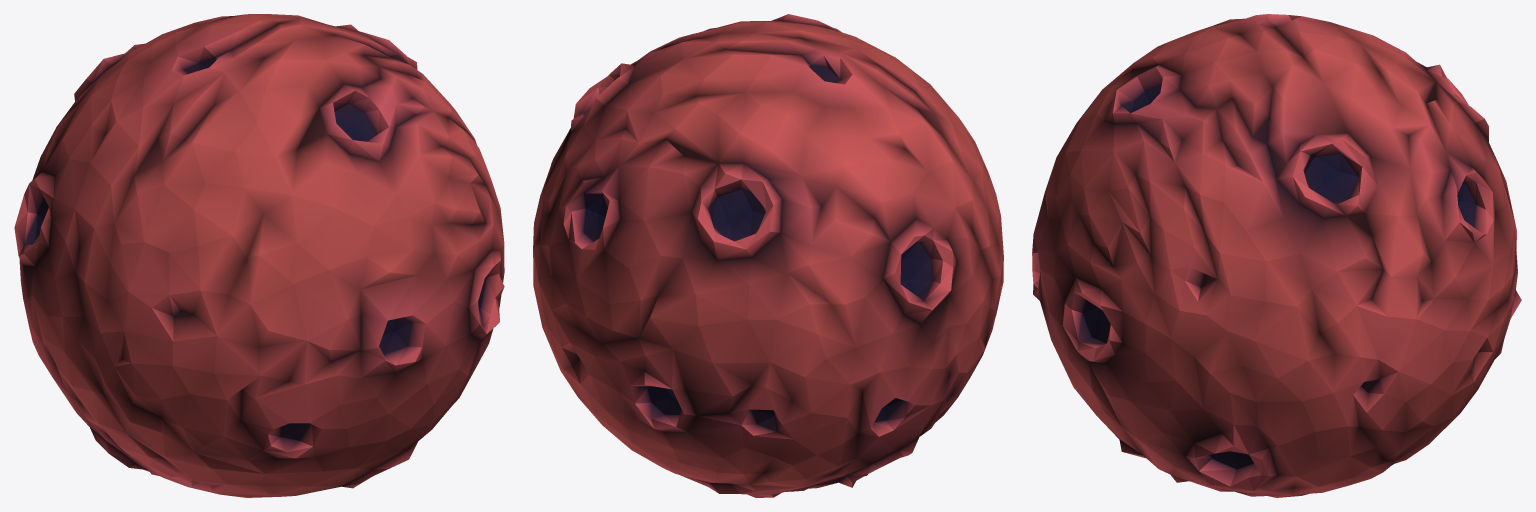
Rendered from moon27.fbx.
The picture shows the model from 3 angles, left to right: view 1: azimuth 30°, elevation 25°; view 2: azimuth 150°, elevation 25°; view 3: azimuth 270°, elevation 25°; orthographic projection. The views are drawn at different scales.
Visible parts, largest first — view 1: attribblur1; view 2: attribblur1; view 3: attribblur1.
Boxes of the visible parts, <box> form: attribblur1: <box>14,14,504,497</box>; attribblur1: <box>533,14,1003,497</box>; attribblur1: <box>1032,14,1521,497</box>.
Bounding box in the file's own units: 1.05 × 1.05 × 1.07.
